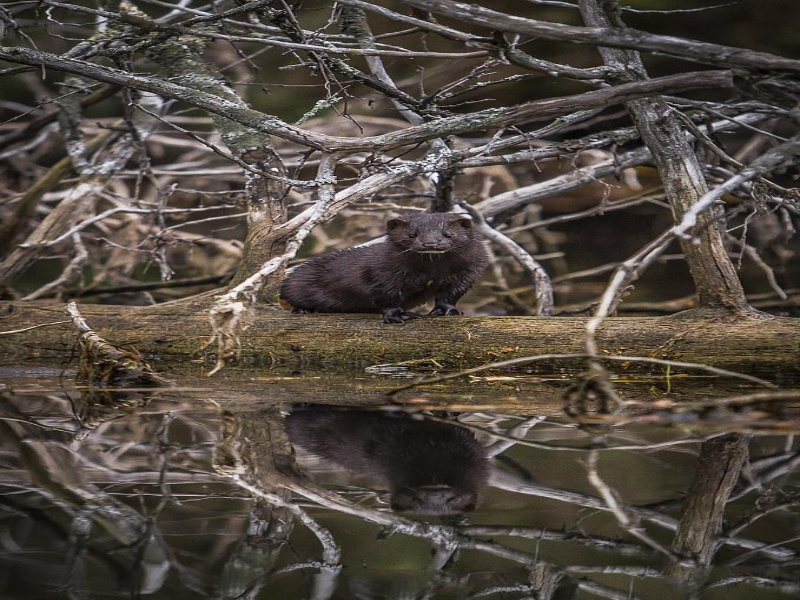minkish: (274, 213, 492, 322)
